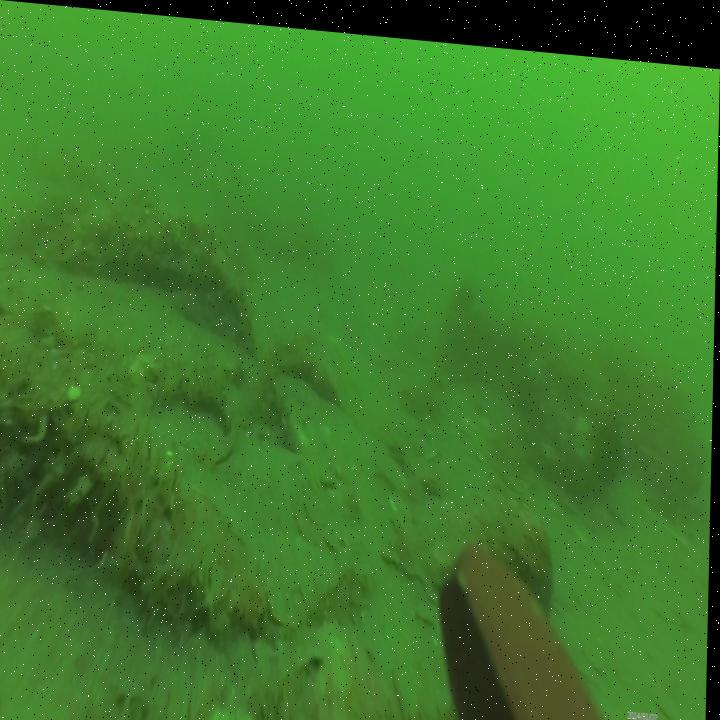holothurian: (148, 350, 237, 438), (274, 321, 341, 396), (249, 369, 303, 453)
